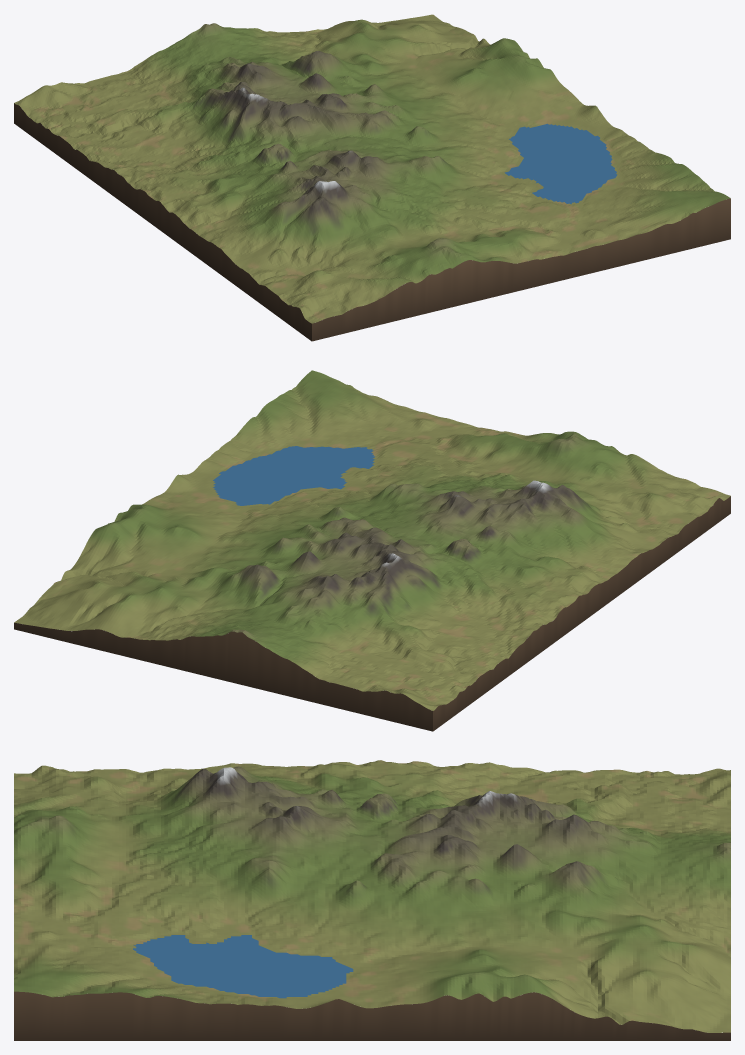
File: javakheti-relief.glb
3 views of the same model, one above another, from view 1: azimuth 30°, elevation 25°; view 2: azimuth 150°, elevation 25°; view 3: azimuth 270°, elevation 25° (orthographic). The views are drawn at different scales.
Visible parts, largest first — view 1: terrain, plinth, water; view 2: terrain, plinth, water; view 3: terrain, plinth, water.
Boxes of the visible parts, left/top/right/bottom form: terrain: left=14, top=14, right=730, bottom=323; plinth: left=14, top=103, right=730, bottom=341; water: left=504, top=123, right=617, bottom=204; terrain: left=14, top=370, right=730, bottom=710; plinth: left=14, top=496, right=730, bottom=731; water: left=213, top=446, right=375, bottom=505; terrain: left=14, top=760, right=730, bottom=1032; plinth: left=14, top=991, right=730, bottom=1040; water: left=133, top=935, right=353, bottom=998.
Size of the model in its own units: 23.35 by 3.76 by 28.75.
